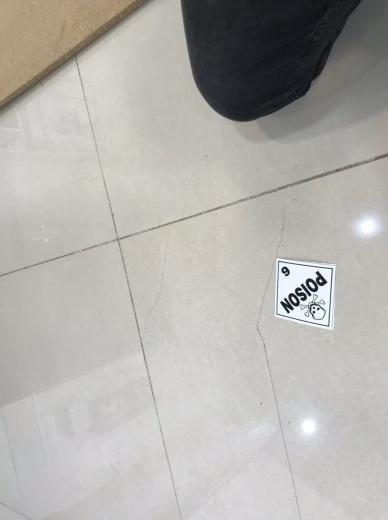poison: (273, 256, 339, 331)
